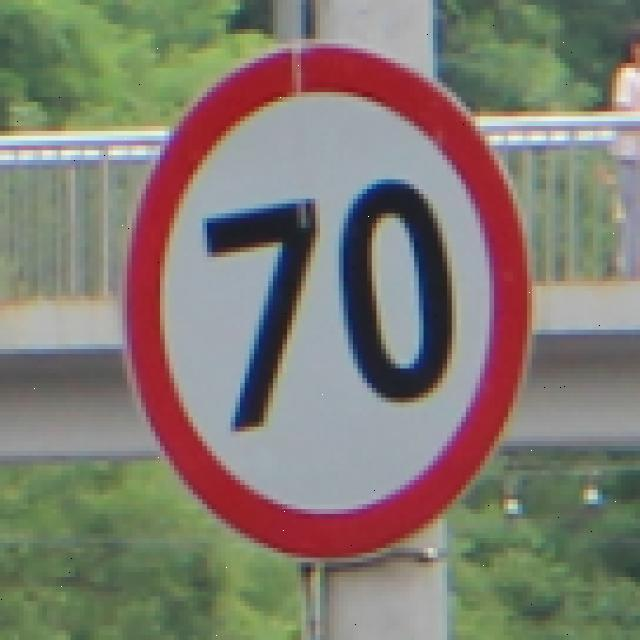speed limit 70: (124, 45, 533, 558)
